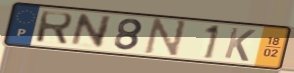1: (202, 24, 222, 60)
8: (113, 17, 144, 51)
K: (221, 26, 257, 63)
N: (142, 17, 189, 59), (67, 13, 114, 50)
R: (33, 10, 75, 47)
